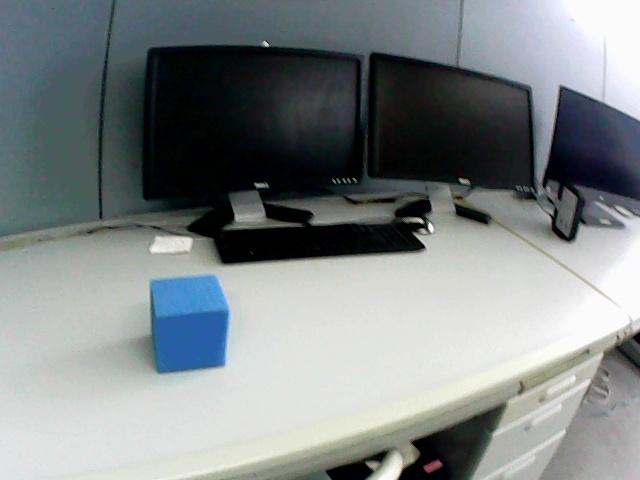blue_block: (150, 276, 229, 372)
